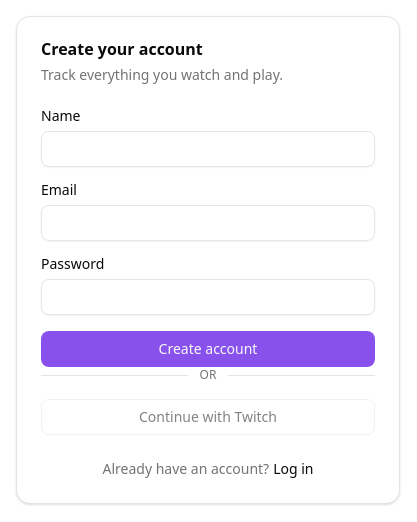
Test: RegisterPage › error de servidor: reemplaza el form por un ErrorState con retry
Type "New Person" into the field labelled "Name" at {"x": 208, "y": 149}, box [41,131,375,167]
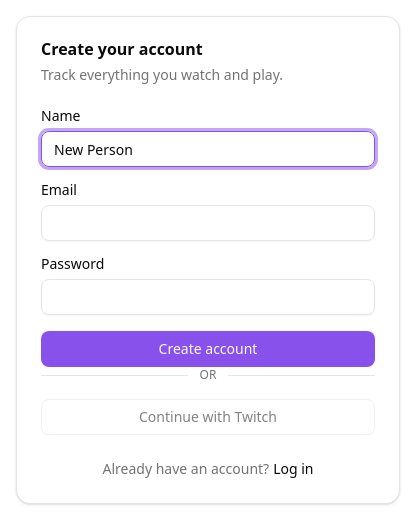
Type "newperson@example.com" into the field labelled "Email" at {"x": 208, "y": 223}, box [41,205,375,241]
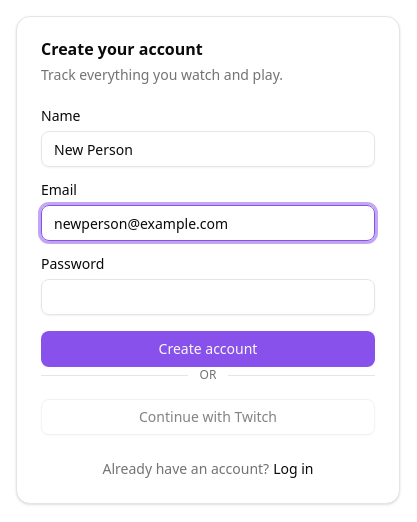
Type "password123" into the password field labelled "Password" at {"x": 208, "y": 297}, box [41,279,375,315]
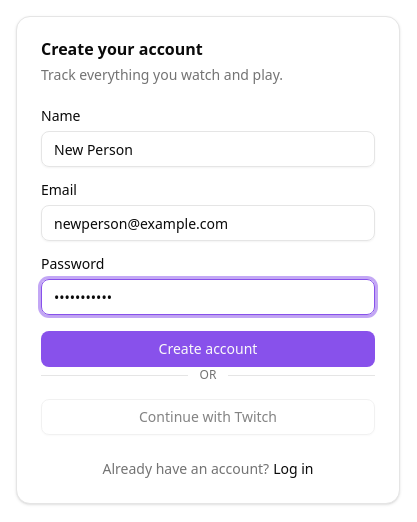
Click the button "Create account" at {"x": 208, "y": 349}, box [41,331,375,367]
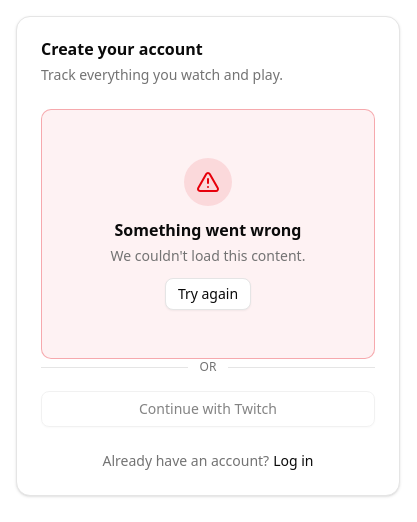
Result: the heading "Something went wrong" is shown at [111,218,305,242]
Result: the button "Try again" is shown at [165,278,251,310]
